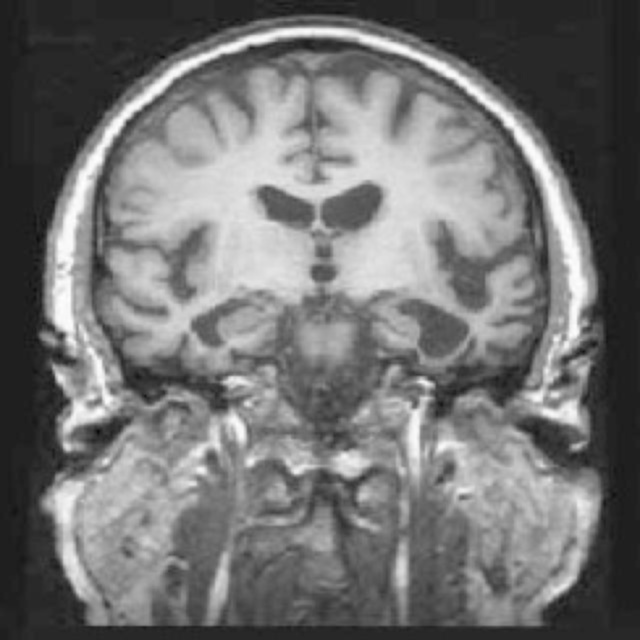glioma tumor: (107, 86, 543, 416)
